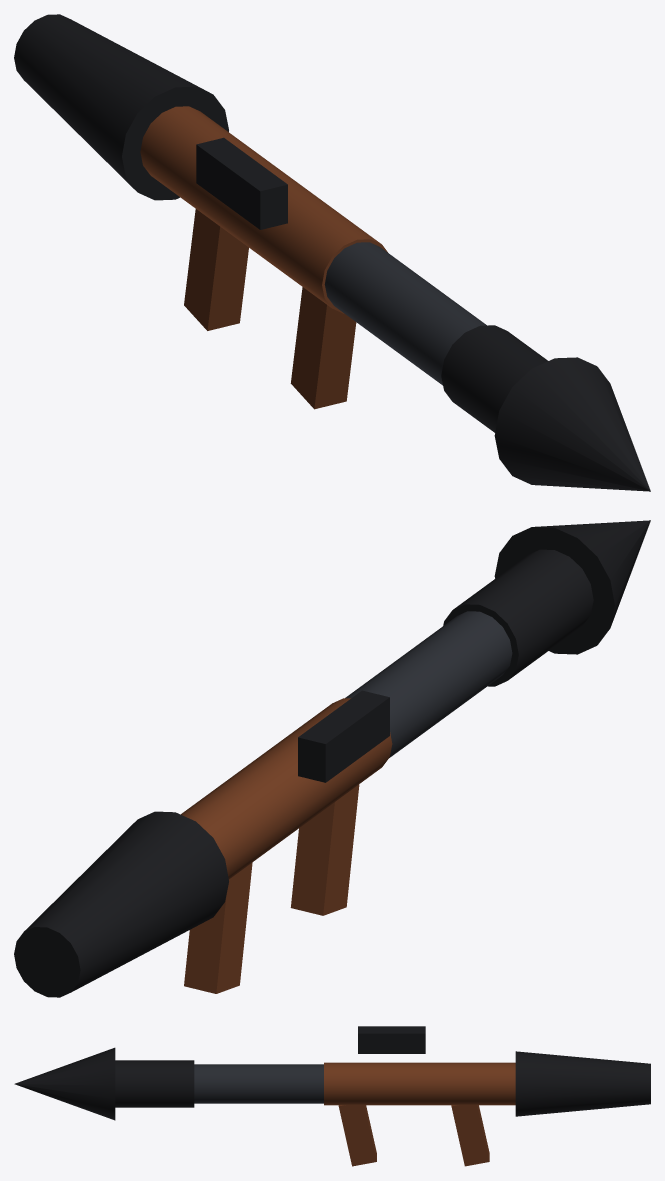
Rendered from launcher.glb.
The picture shows the model from 3 angles, top to bottom: view 1: azimuth 30°, elevation 25°; view 2: azimuth 150°, elevation 25°; view 3: azimuth 270°, elevation 25°; orthographic projection. The views are drawn at different scales.
Parts seen in each view (by area): view 1: Gun_Launcher, warhead; view 2: Gun_Launcher, warhead; view 3: Gun_Launcher, warhead.
Boxes of the visible parts, x1,y1,x2,y2 form: Gun_Launcher: (14,14,486,409); warhead: (441,325,650,491); Gun_Launcher: (14,611,512,997); warhead: (443,520,650,686); Gun_Launcher: (194,1026,650,1166); warhead: (14,1047,194,1120).
Bounding box in the file's own units: 0.135 × 0.2333 × 1.13.
